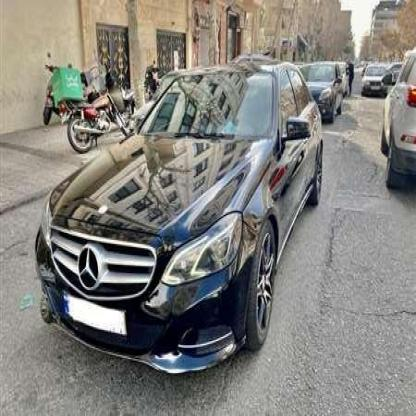Car: (20, 62, 324, 358), (383, 44, 416, 178), (298, 57, 346, 116), (362, 64, 390, 94)
